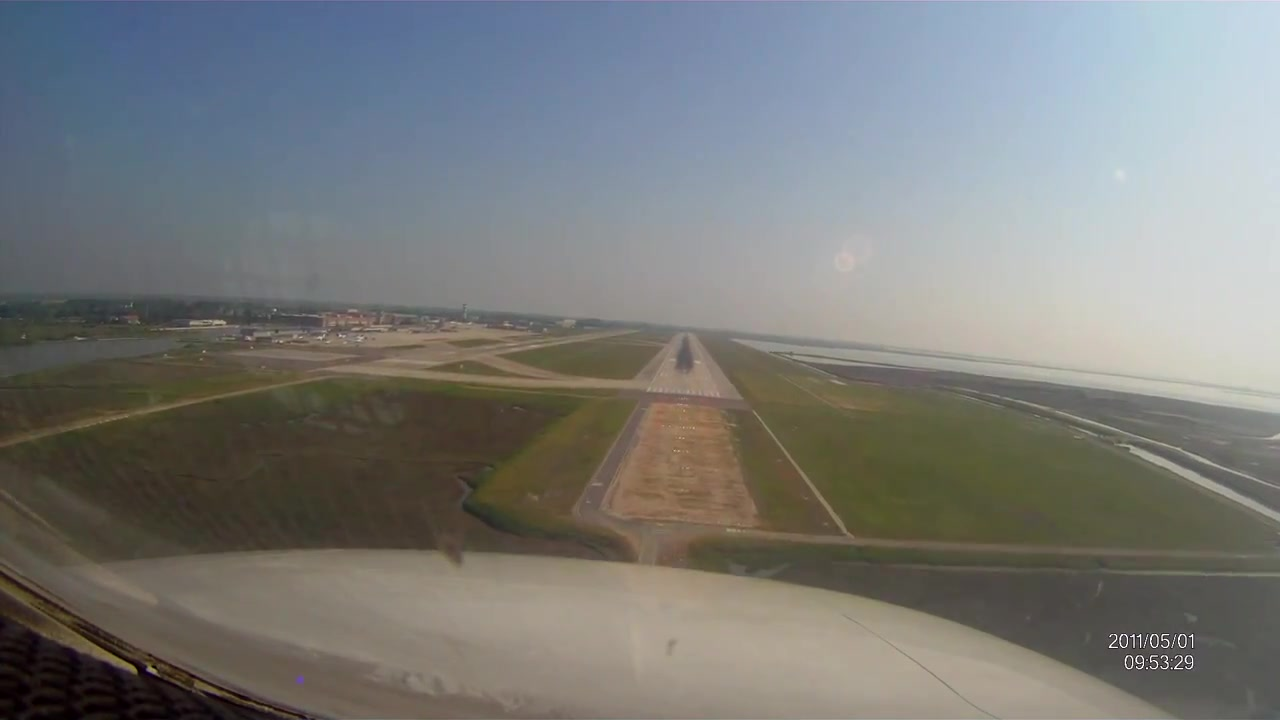entrance: (650, 386, 720, 397)
runway: (648, 334, 724, 399)
